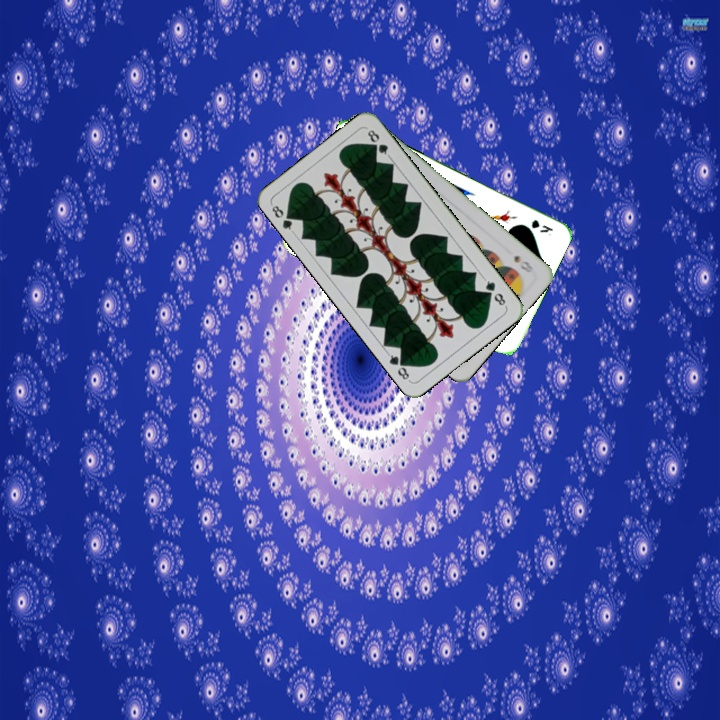G8: (267, 200, 298, 236), (480, 274, 509, 309)
GK: (527, 215, 555, 238)
S8: (510, 251, 536, 275)
